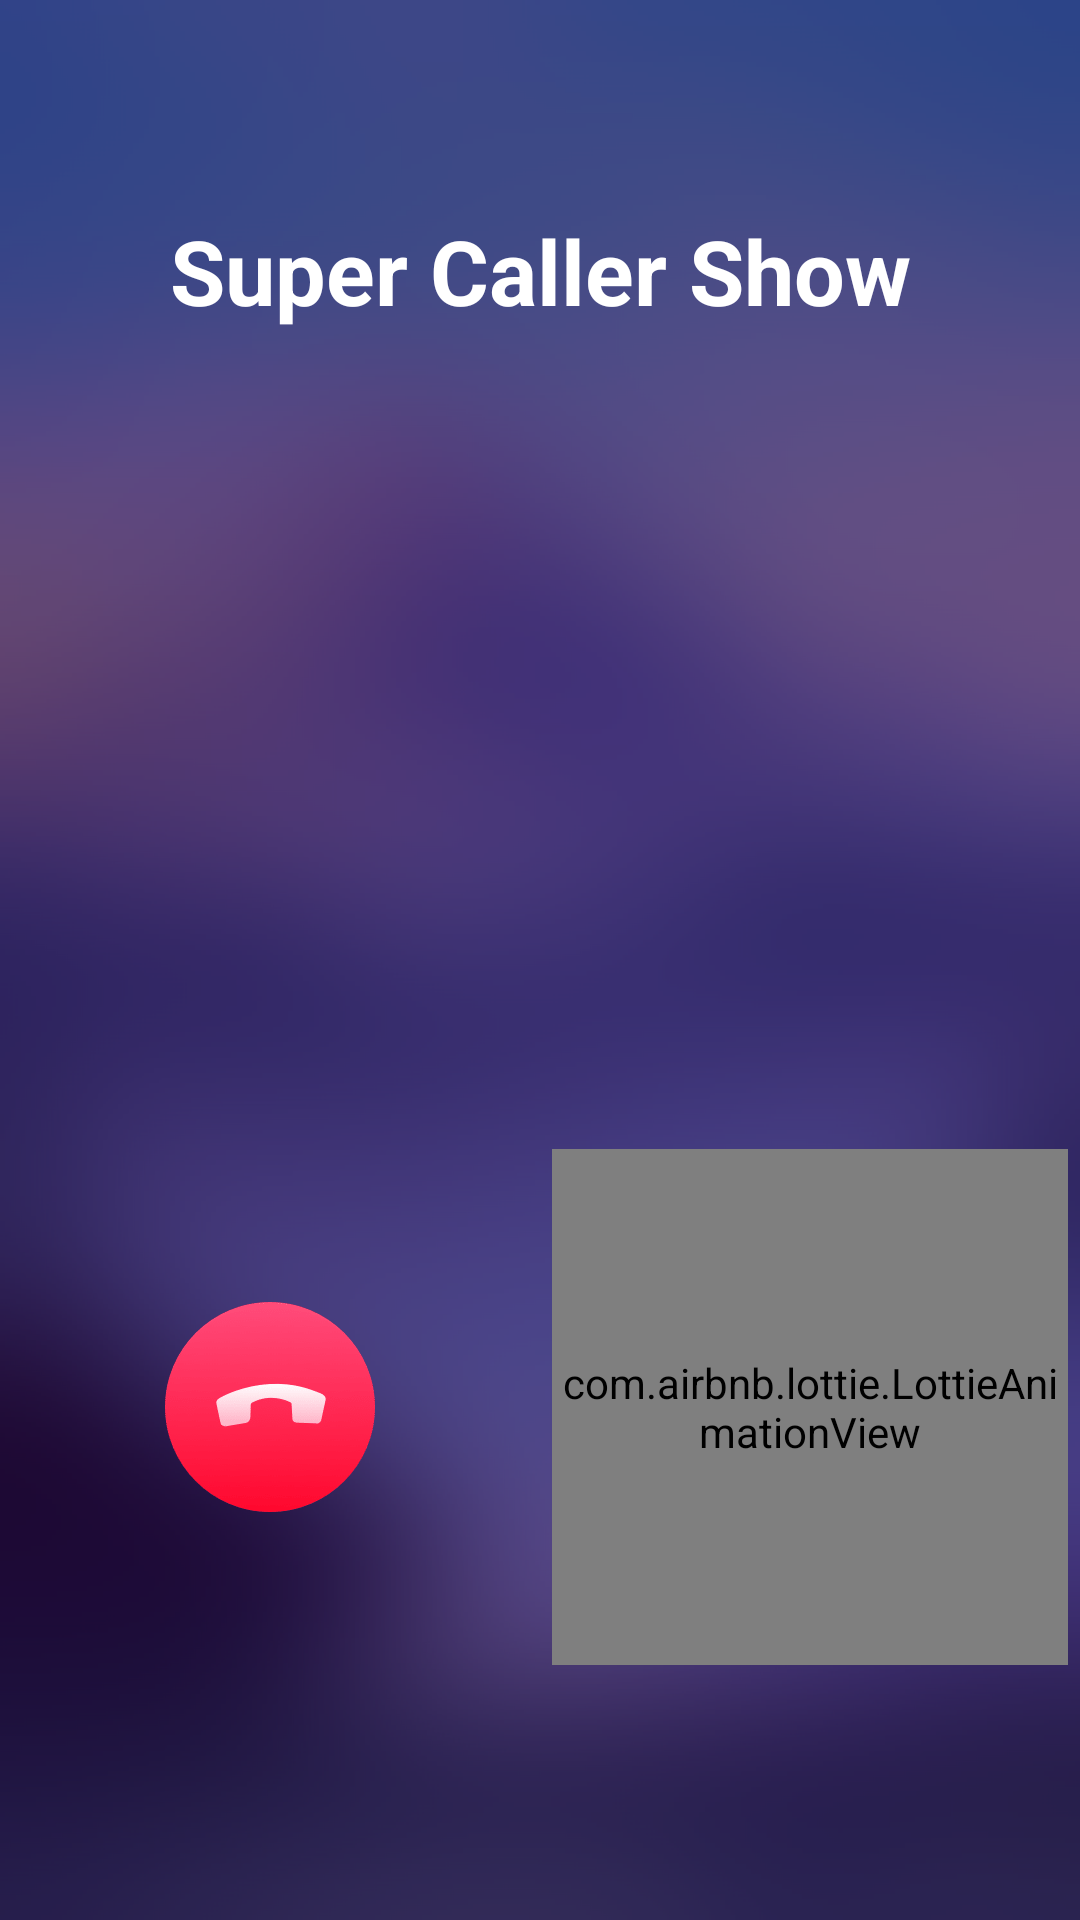

Icon click points for this 1080 × 1920 phone screenshot, format (x=x, y=y):
bth close: (x=270, y=1407)
